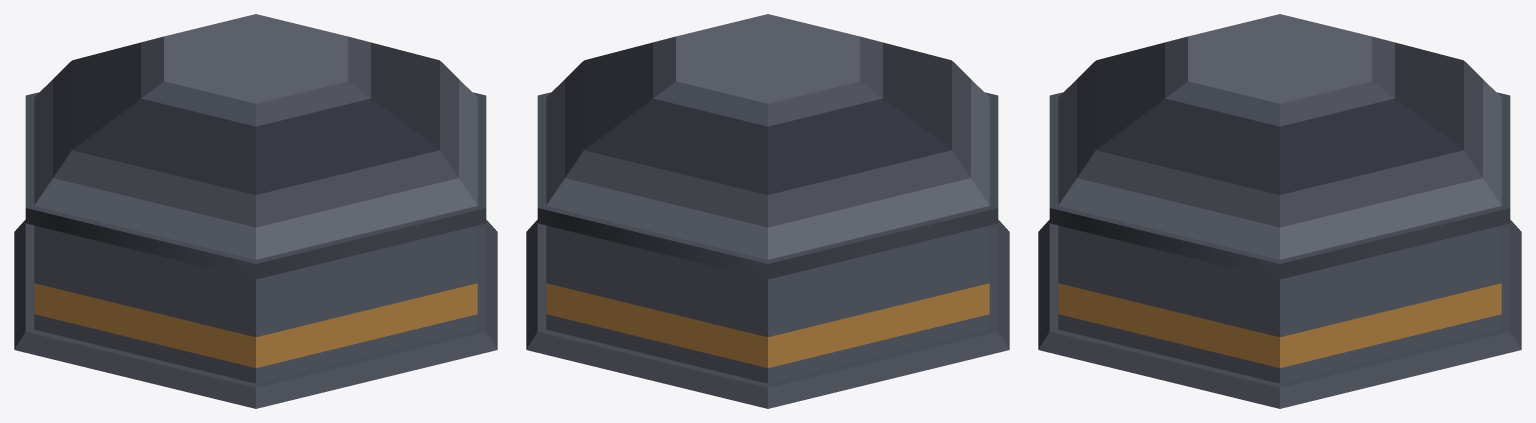
Rendered from station_hub.glb.
3 renders of one model, left to right at view 1: azimuth 30°, elevation 25°; view 2: azimuth 150°, elevation 25°; view 3: azimuth 270°, elevation 25°, orthographic.
Parts seen in each view (by area): view 1: body; view 2: body; view 3: body.
Part boxes in pixels (bbox=[...]): body: bbox=[14, 14, 497, 408]; body: bbox=[526, 14, 1009, 408]; body: bbox=[1038, 14, 1521, 408].
Size of the model in its own units: 3.27 by 1.5 by 2.83.
